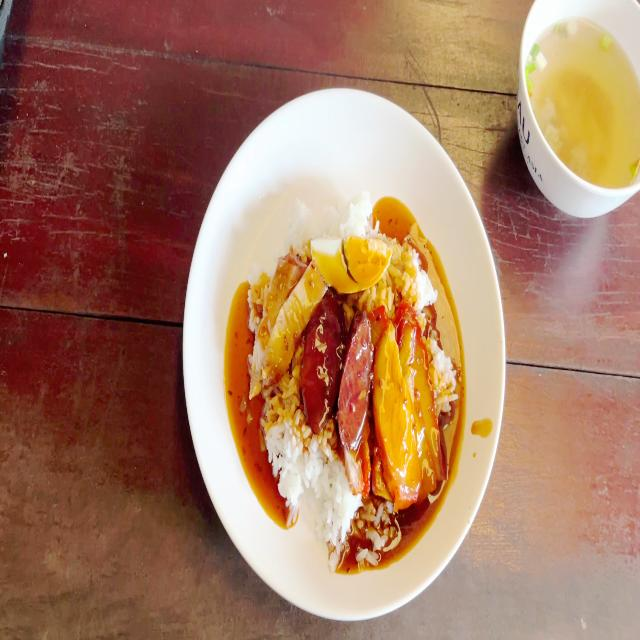boiled_egg: (315, 230, 392, 296)
chainese_sausage: (312, 299, 369, 445)
crispy_pork: (244, 260, 322, 391)
red_pork: (379, 316, 438, 504)
red_pork_and_crispy_pork: (240, 193, 460, 558)
rice: (261, 393, 304, 497), (310, 454, 340, 540)
